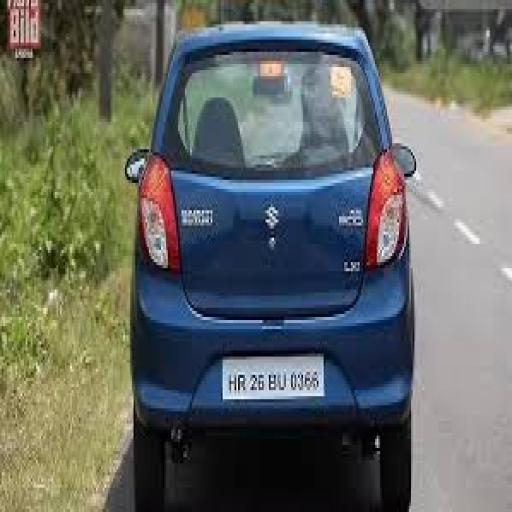License: (220, 349, 331, 400)
